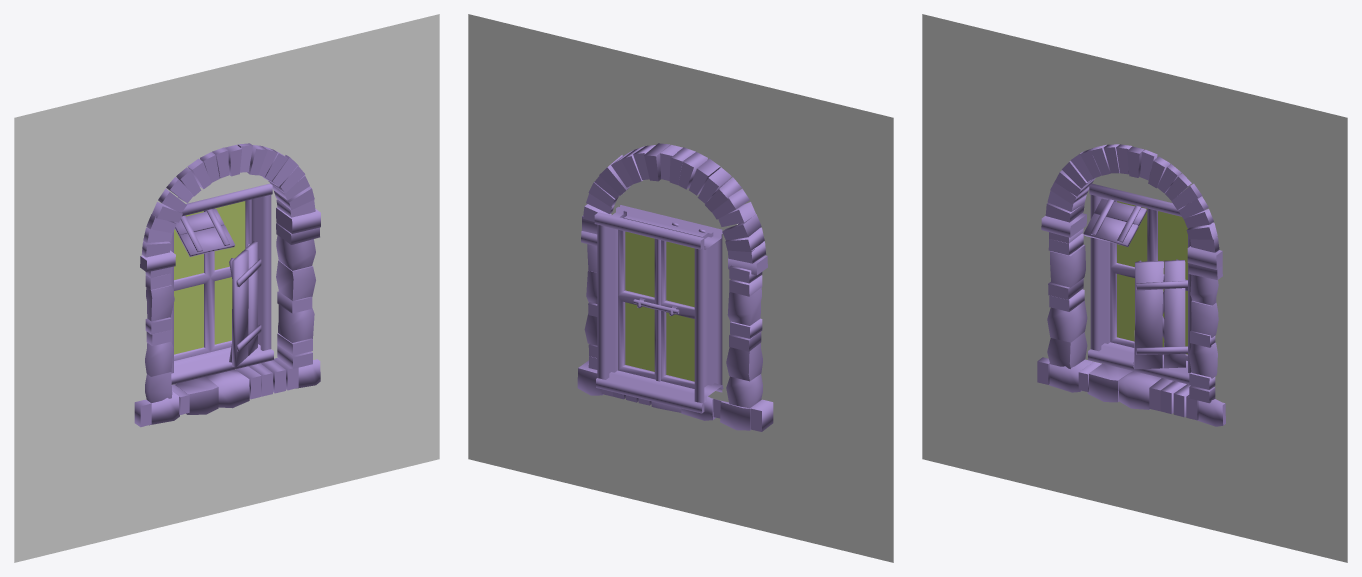
The model's file is window_d_outside_variant_a.fbx.
3 renders of one model, left to right at view 1: azimuth 30°, elevation 25°; view 2: azimuth 150°, elevation 25°; view 3: azimuth 330°, elevation 25°, orthographic.
Parts seen in each view (by area): view 1: Plane.051, Plane.048, Plane.050, Plane.053, Plane.052; view 2: Plane.051, Plane.048, Plane.050; view 3: Plane.051, Plane.048, Plane.053, Plane.050, Plane.052.
Part boxes in pixels (x1=…): Plane.051: x1=14, y1=14, x2=439, y2=562; Plane.048: x1=134, y1=143, x2=320, y2=427; Plane.050: x1=174, y1=201, x2=245, y2=354; Plane.053: x1=229, y1=241, x2=261, y2=367; Plane.052: x1=174, y1=208, x2=234, y2=256; Plane.051: x1=468, y1=14, x2=893, y2=562; Plane.048: x1=577, y1=143, x2=773, y2=431; Plane.050: x1=625, y1=231, x2=694, y2=381; Plane.051: x1=922, y1=14, x2=1347, y2=562; Plane.048: x1=1037, y1=144, x2=1225, y2=426; Plane.053: x1=1133, y1=259, x2=1187, y2=369; Plane.050: x1=1117, y1=201, x2=1187, y2=354; Plane.052: x1=1083, y1=198, x2=1146, y2=246.
Size of the model in its own units: 5 by 5 by 0.844.
